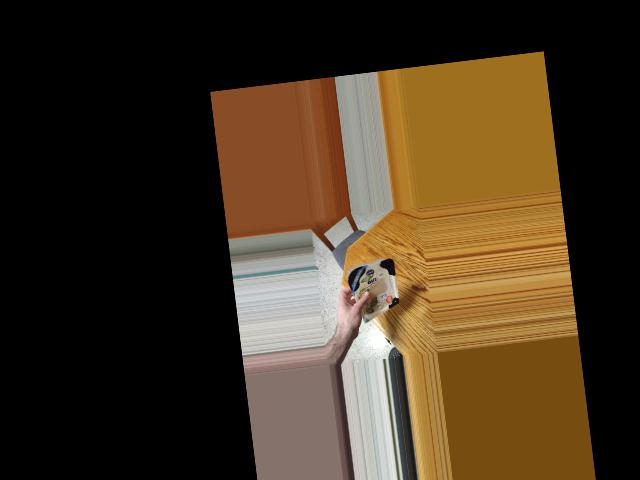cheese: (353, 256, 396, 319)
